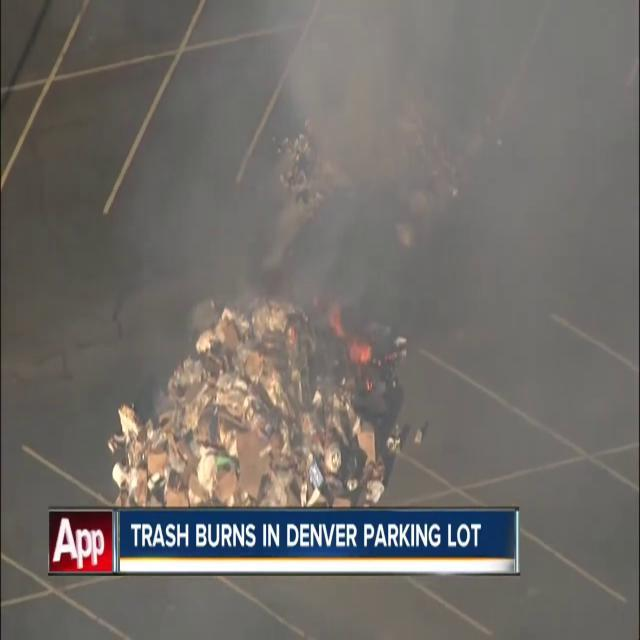Smoke: (226, 1, 628, 320)
